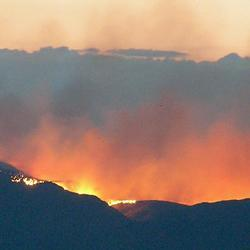fire: (70, 183, 94, 199)
